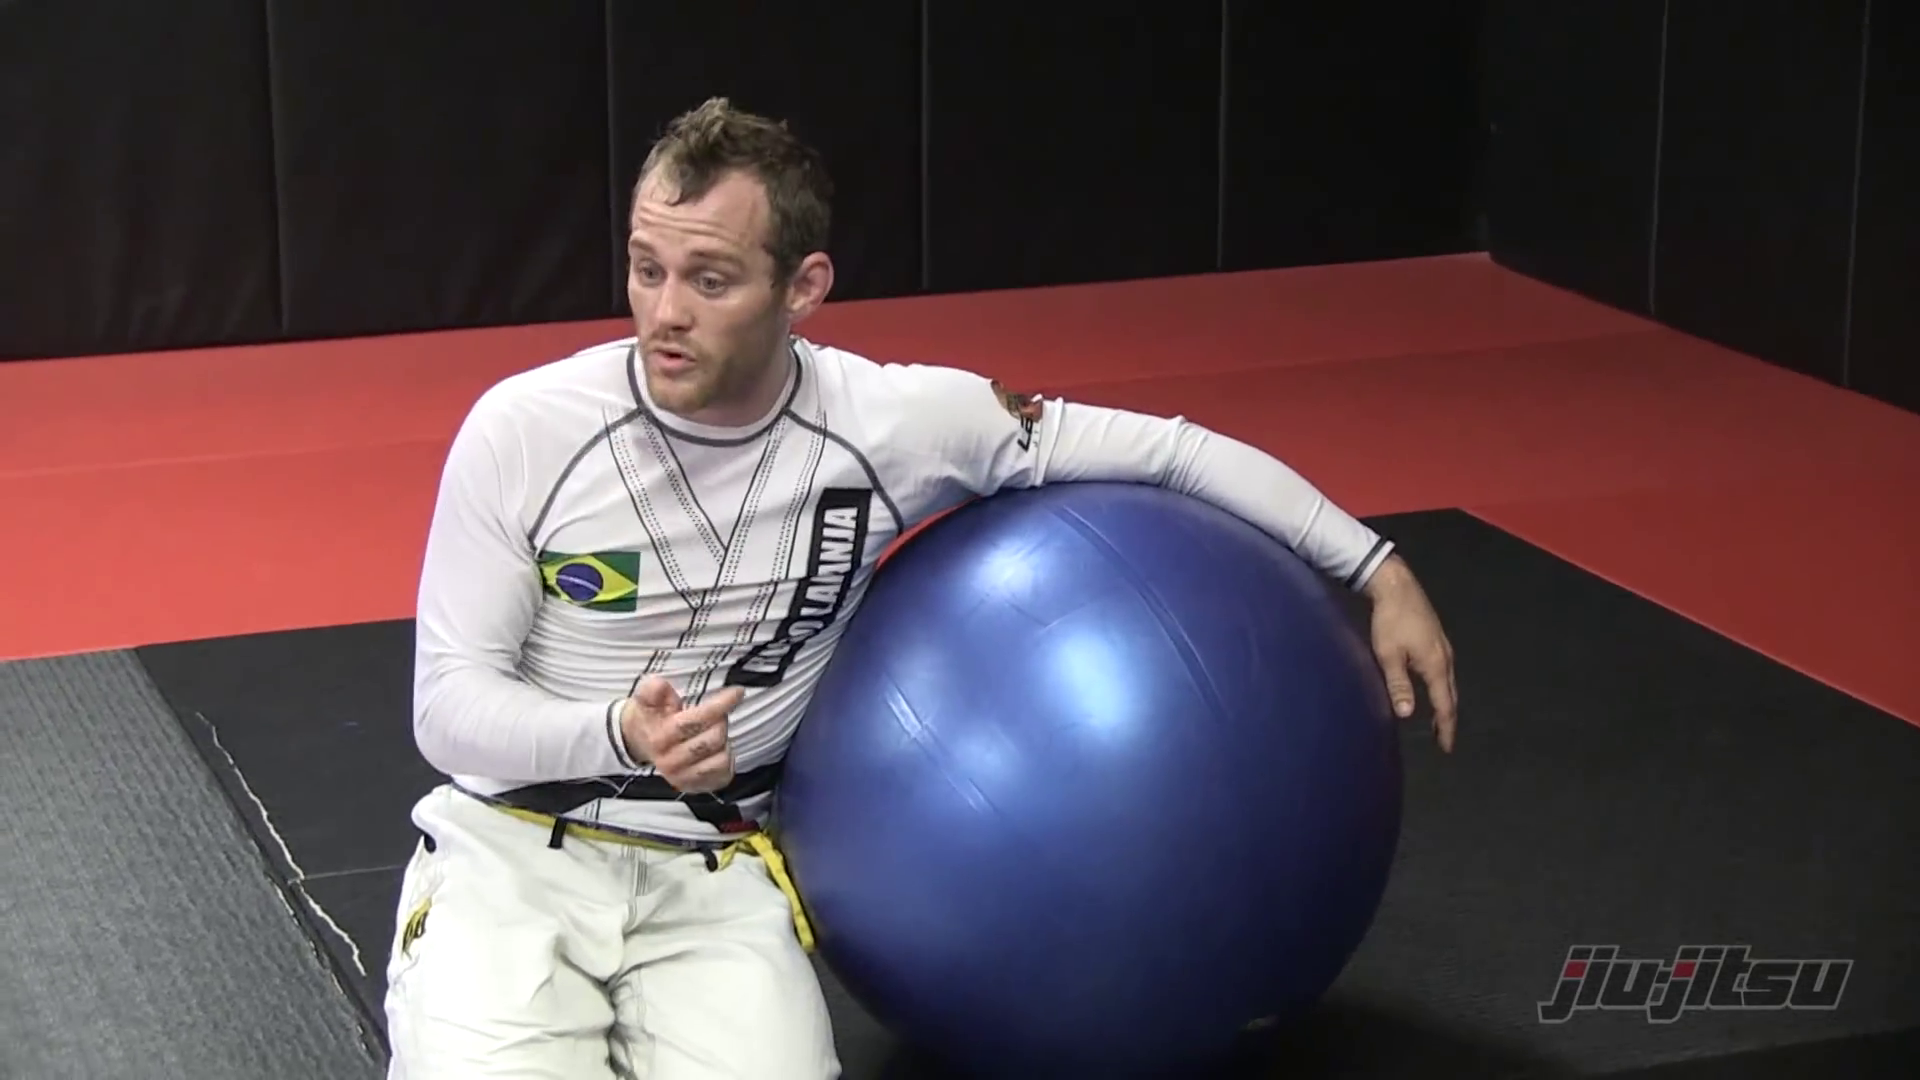yogaball: (746, 454, 1433, 1068)
